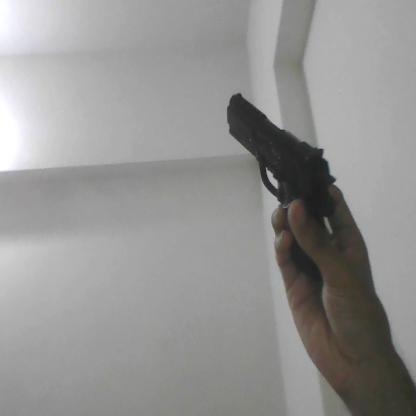handgun: (227, 92, 337, 280)
